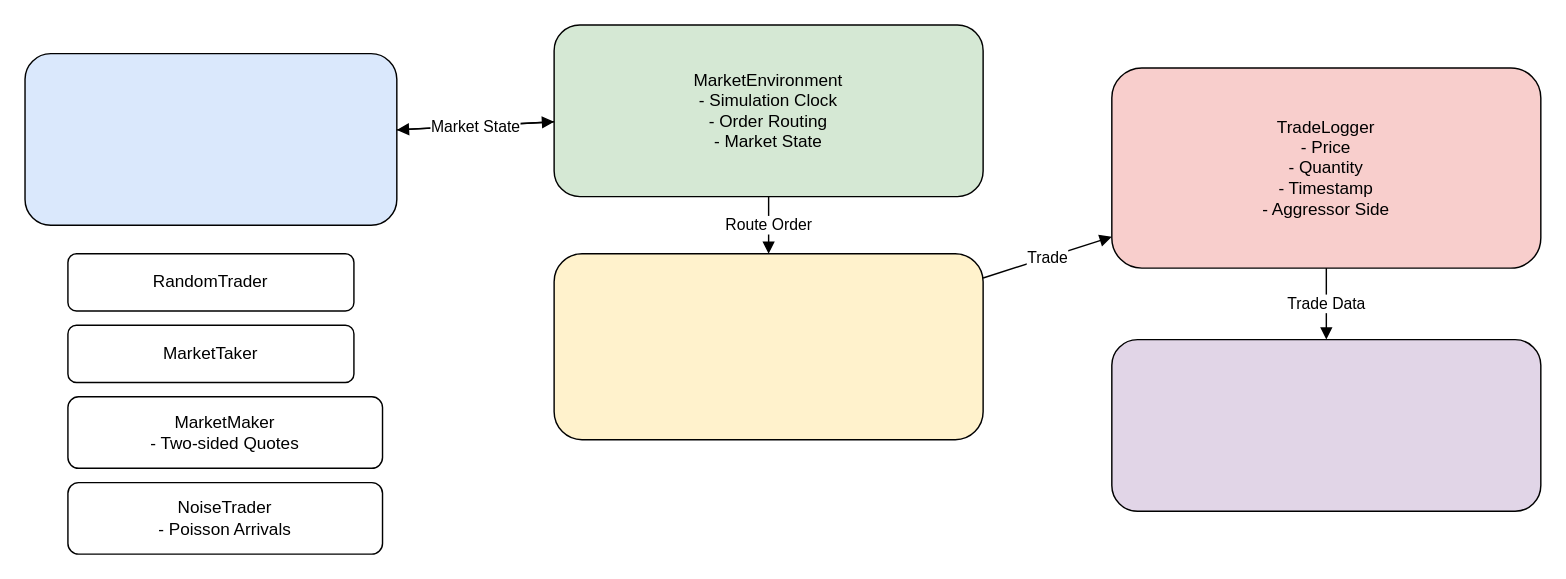
This 1566x579 diagram has some shape labels left out. The shapes that lost their labels are listed below. From the top down, each one's centre as x and y in pixels, then its label:
At point (210, 138): "Agent (Base) - Observe Market - Decide Action - Submit Order".
At point (768, 346): "OrderBook - Bids / Asks - FIFO Matching - Price-Time Priority".
At point (1325, 424): "Visualizer - Depth Chart - Spread Plot - Trade Tape".
